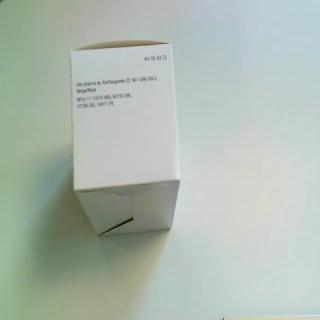levopidon25mg: (68, 37, 182, 239)
